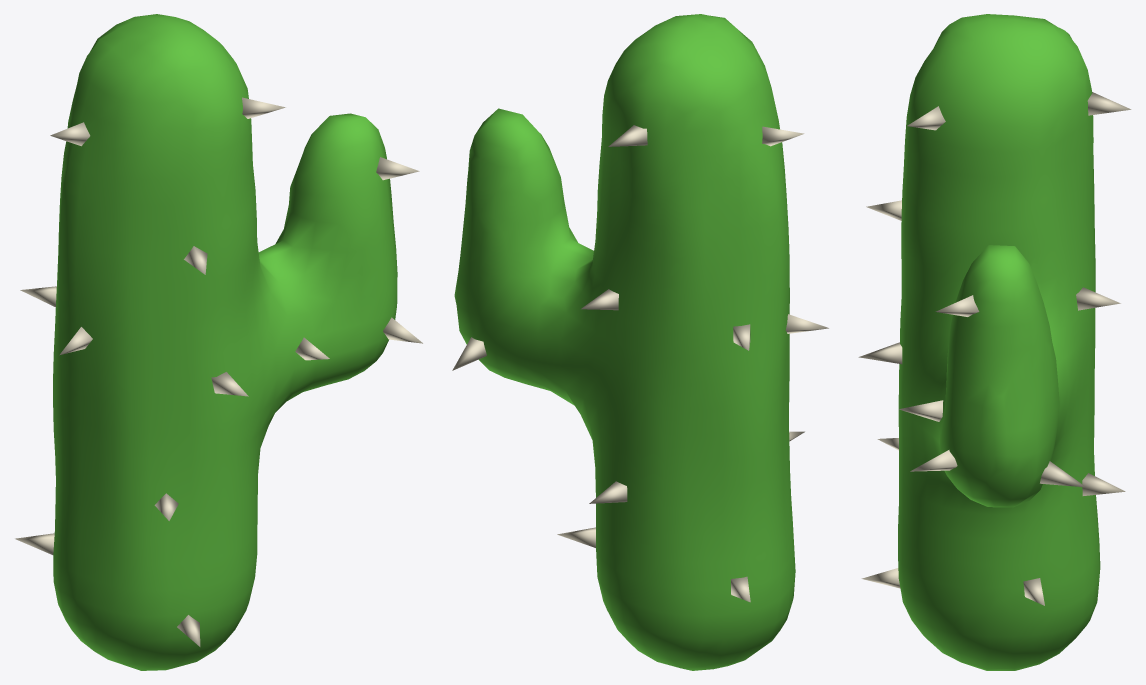
Rendered from Cactus01.fbx.
3 renders of one model, left to right at view 1: azimuth 30°, elevation 25°; view 2: azimuth 150°, elevation 25°; view 3: azimuth 270°, elevation 25°, orthographic.
Parts seen in each view (by area): view 1: Mball.004; view 2: Mball.004; view 3: Mball.004.
Part boxes in pixels (x1,y1,x2,y2): Mball.004: (15,14,422,670); Mball.004: (452,14,828,670); Mball.004: (858,14,1131,670).
Bounding box in the file's own units: 109 × 189 × 72.28.
